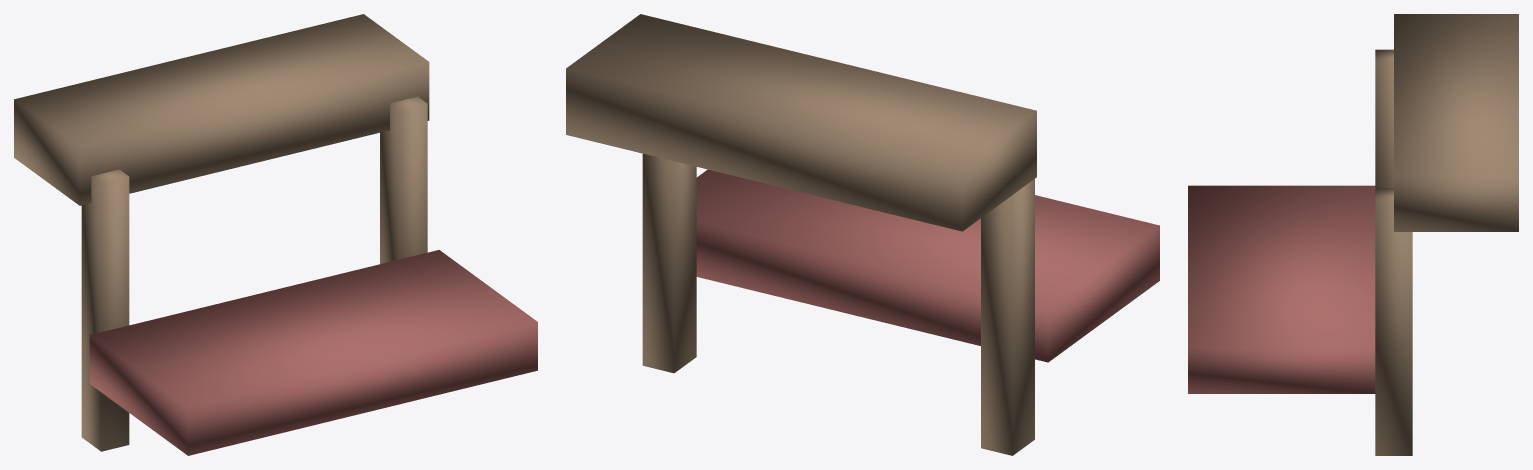
Rendered from prayer_kneeler__deep.glb.
3 views of the same model, side by side, from view 1: azimuth 30°, elevation 25°; view 2: azimuth 150°, elevation 25°; view 3: azimuth 270°, elevation 25° (orthographic). The views are drawn at different scales.
Visible parts, largest first — view 1: world; view 2: world; view 3: world.
Boxes of the visible parts, bbox=[...] form: world: bbox=[14, 14, 537, 455]; world: bbox=[566, 14, 1159, 455]; world: bbox=[1188, 14, 1518, 455].
Size of the model in its own units: 0.75 by 0.615 by 0.6466.
